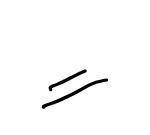eqv: (35, 67, 110, 110)
